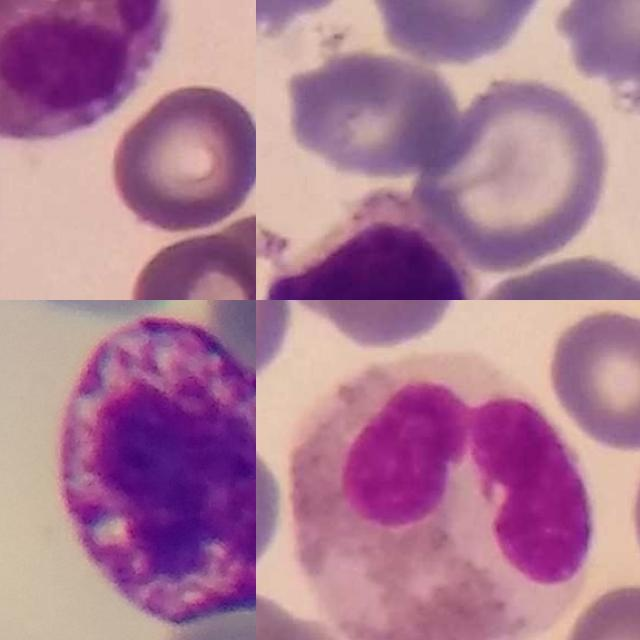Basophil: (57, 308, 256, 627)
Eosinophil: (288, 350, 599, 640), (0, 0, 163, 140)
Lymphocyte: (261, 189, 478, 300)
